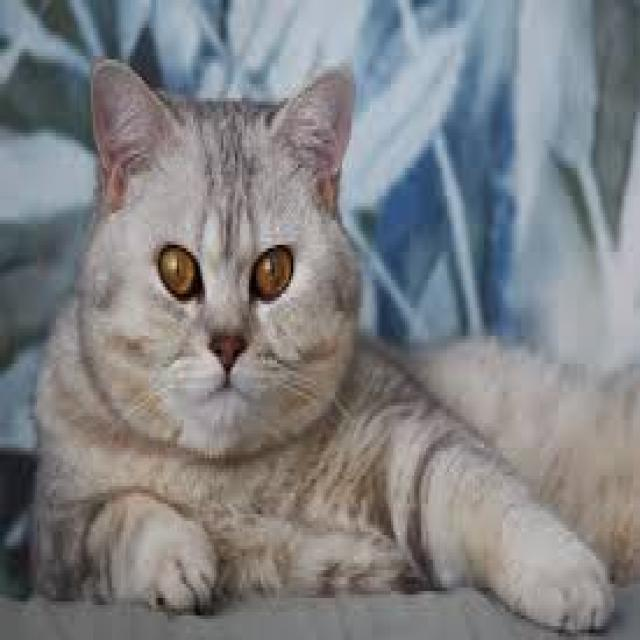cat-face: (61, 41, 428, 508)
